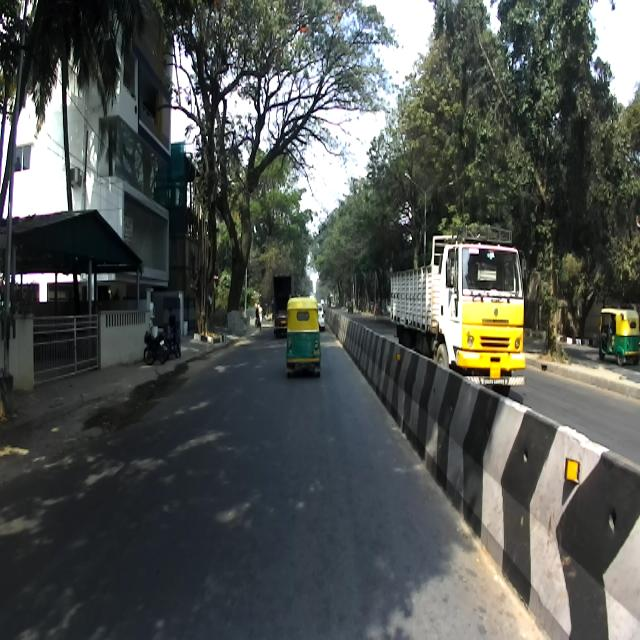auto ahead at: (284, 288, 326, 372)
truck ahead at: (391, 230, 532, 396)
